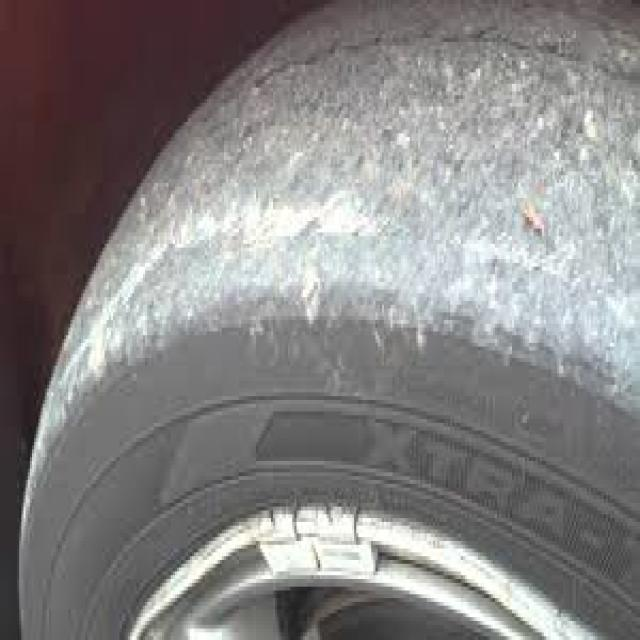Flat spots: (428, 0, 639, 328), (276, 10, 421, 318), (168, 152, 270, 313)
